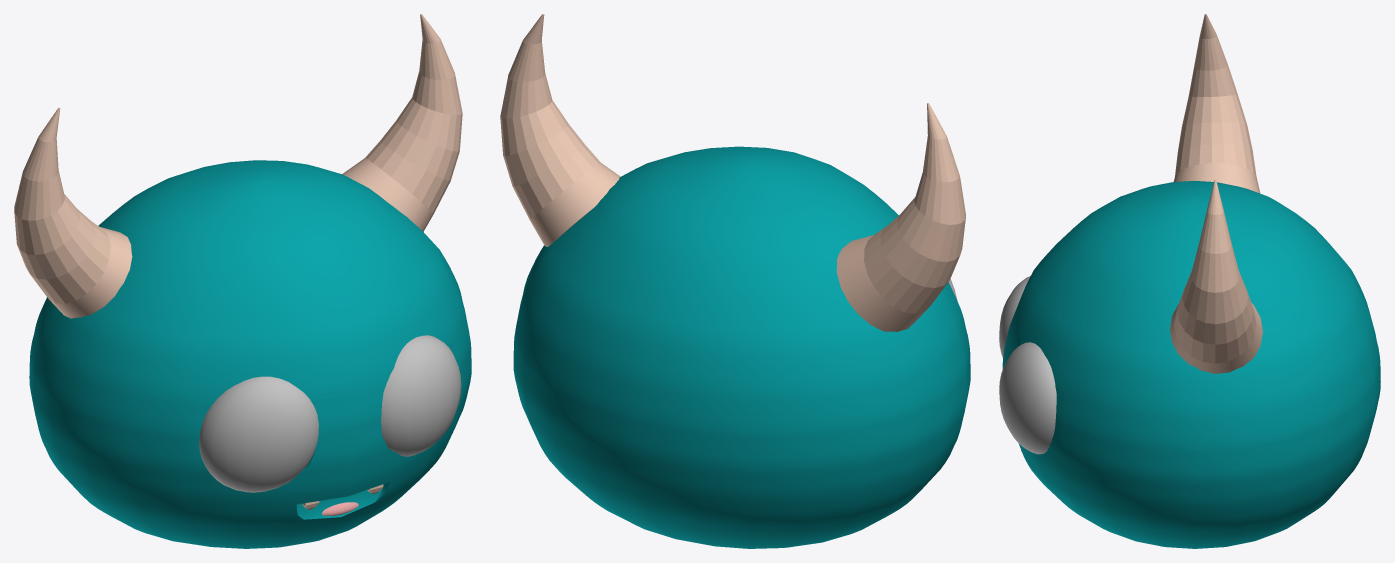
The model's file is vishal_33_scale.fbx.
The picture shows the model from 3 angles, left to right: view 1: azimuth 30°, elevation 25°; view 2: azimuth 150°, elevation 25°; view 3: azimuth 270°, elevation 25°; orthographic projection. The views are drawn at different scales.
Parts seen in each view (by area): view 1: pCylinder2; view 2: pCylinder2; view 3: pCylinder2.
Boxes of the visible parts, x1,y1,x2,y2 form: pCylinder2: [14, 14, 471, 548]; pCylinder2: [500, 14, 970, 548]; pCylinder2: [999, 14, 1380, 548].
Bounding box in the file's own units: 1137 × 1088 × 916.
